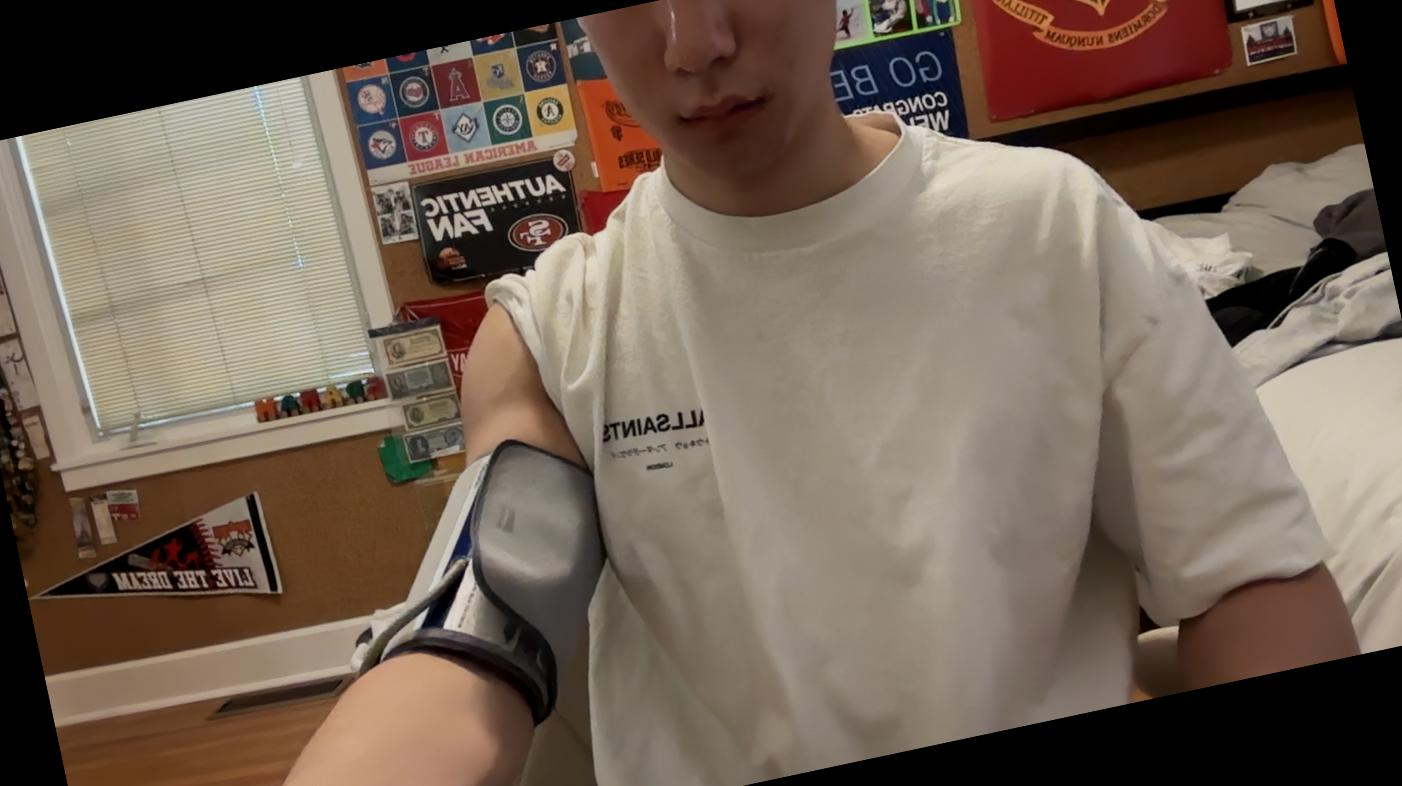cuff: (371, 442, 608, 722)
